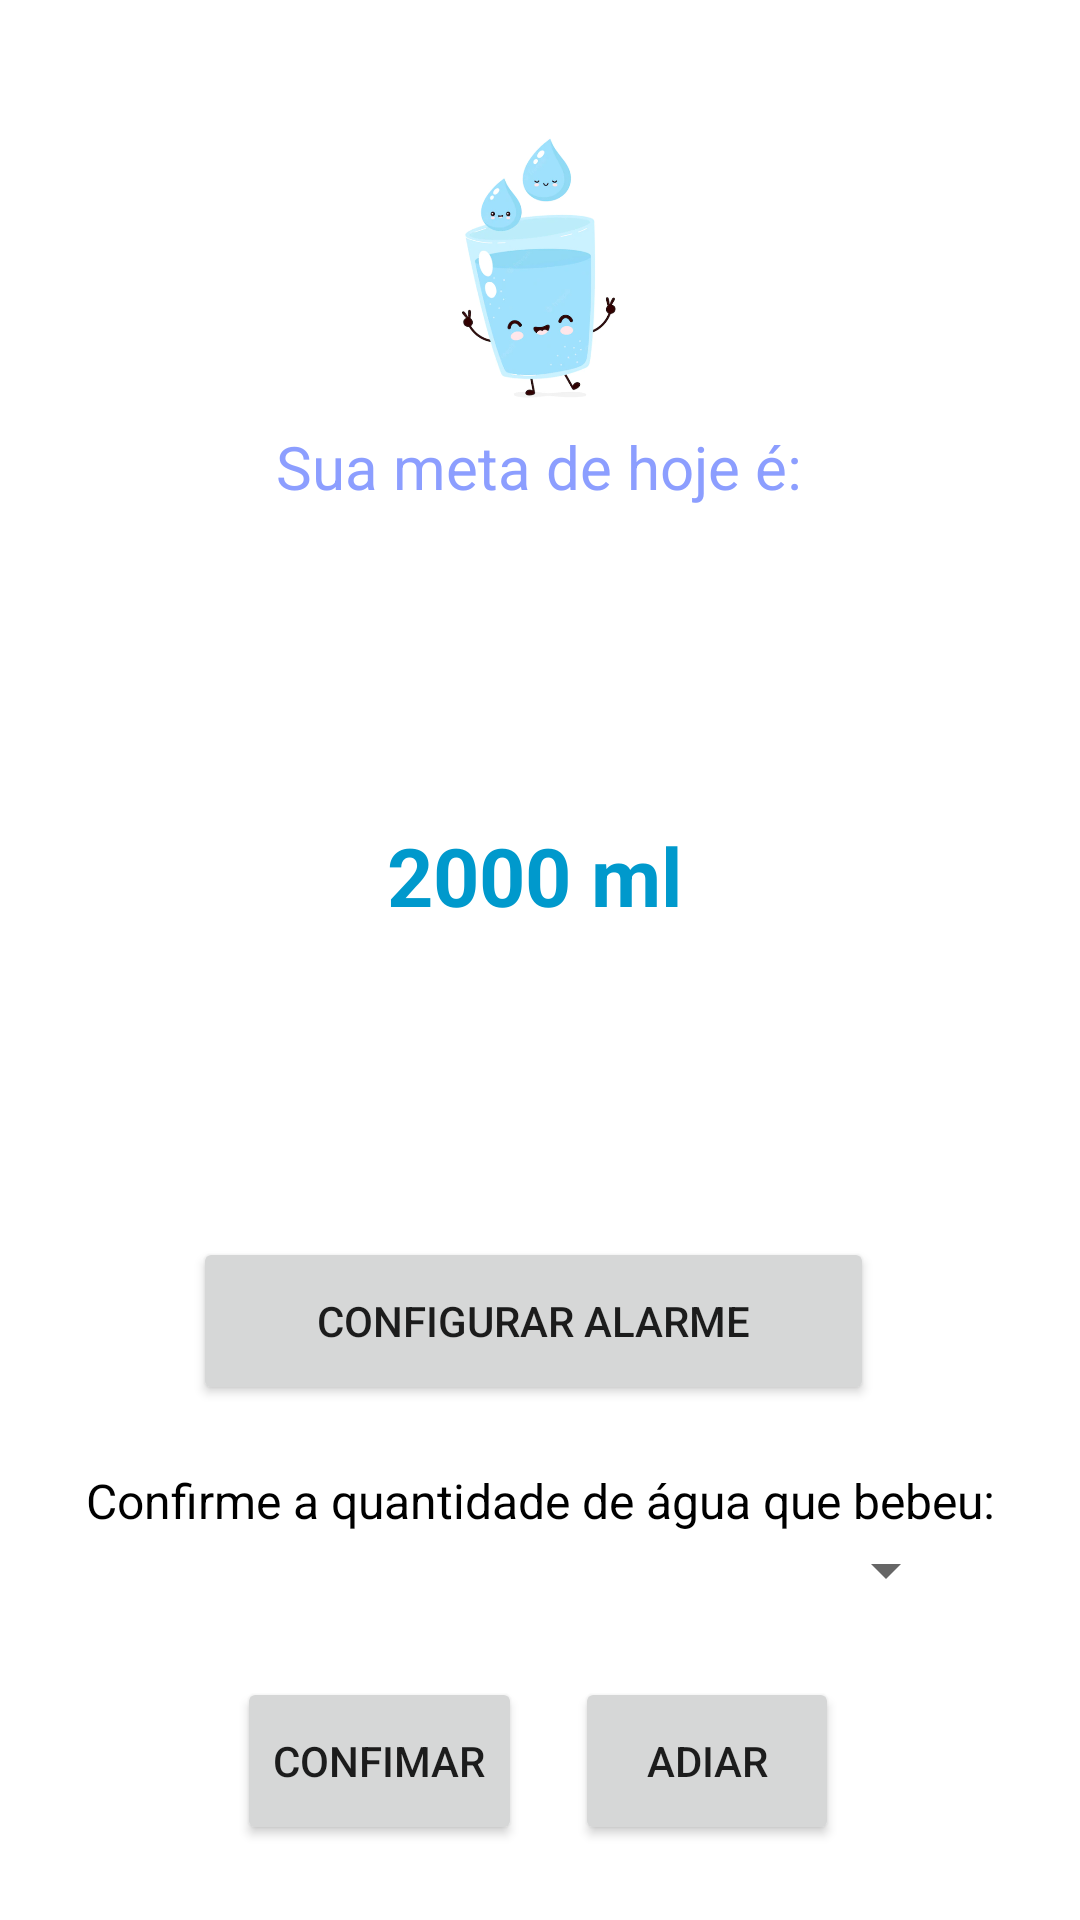

Icons on this 1080*1920 Android screen, each with the point to tap as (x=x, y=y):
copo: (x=539, y=267)
